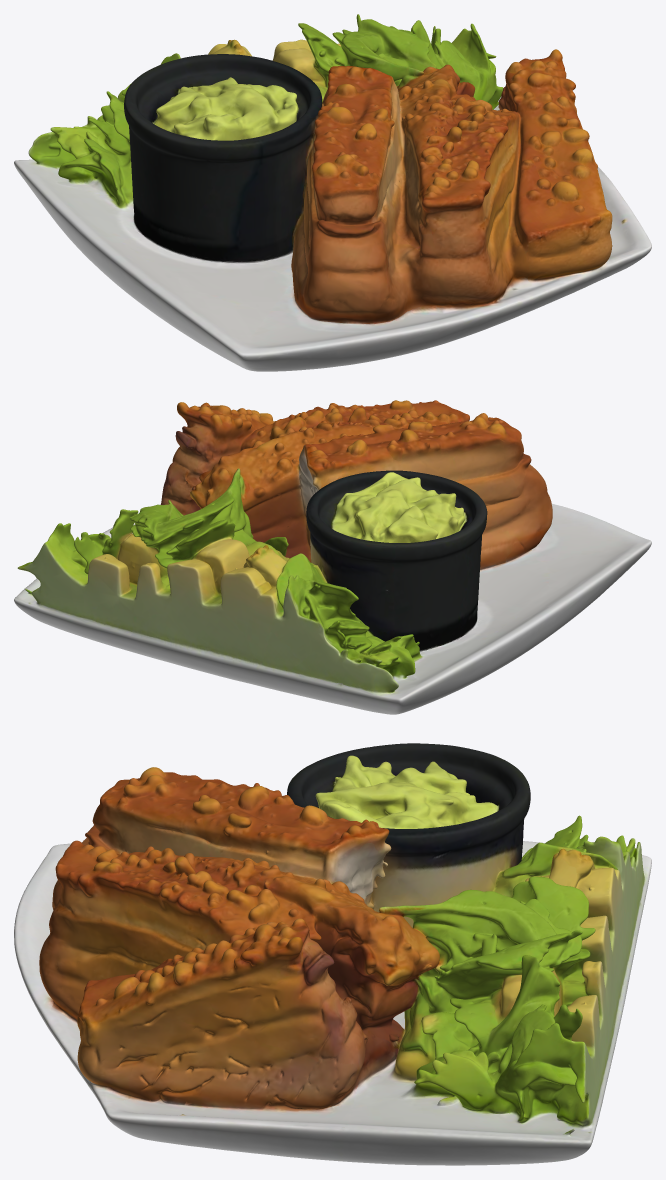
Rendered from panceta_mv.glb.
The picture shows the model from 3 angles, top to bottom: view 1: azimuth 30°, elevation 25°; view 2: azimuth 150°, elevation 25°; view 3: azimuth 270°, elevation 25°; orthographic projection. The views are drawn at different scales.
Parts seen in each view (by area): view 1: tripo_node_63d6d2e5-ea78-4680-9f5d-fbbc91002c24; view 2: tripo_node_63d6d2e5-ea78-4680-9f5d-fbbc91002c24; view 3: tripo_node_63d6d2e5-ea78-4680-9f5d-fbbc91002c24.
Part boxes in pixels (<box>): tripo_node_63d6d2e5-ea78-4680-9f5d-fbbc91002c24: <box>14,14,651,371</box>; tripo_node_63d6d2e5-ea78-4680-9f5d-fbbc91002c24: <box>14,400,651,714</box>; tripo_node_63d6d2e5-ea78-4680-9f5d-fbbc91002c24: <box>14,743,651,1165</box>.
Size of the model in its own units: 1.02 by 0.3947 by 0.9727.
1 material, 1 textured.
